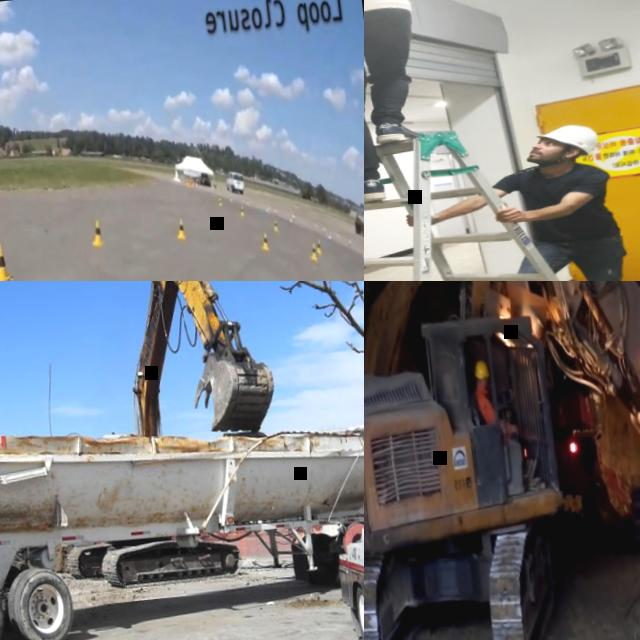Hardhat: (535, 122, 597, 160), (472, 359, 488, 378)
NO-Mask: (524, 148, 557, 166), (482, 380, 486, 387)
NO-Safety Vest: (512, 162, 609, 243)
Person: (396, 118, 632, 281), (364, 0, 435, 222), (469, 353, 525, 480)
Safety Cone: (0, 239, 12, 281), (88, 218, 102, 249), (173, 215, 185, 241), (258, 230, 269, 251), (308, 241, 317, 261), (314, 237, 322, 253), (272, 218, 278, 232), (238, 204, 245, 216), (216, 194, 222, 205)
Safety Vest: (471, 383, 495, 425)
vehicle: (364, 281, 640, 640), (0, 375, 364, 640), (24, 281, 294, 592), (225, 168, 244, 194)
